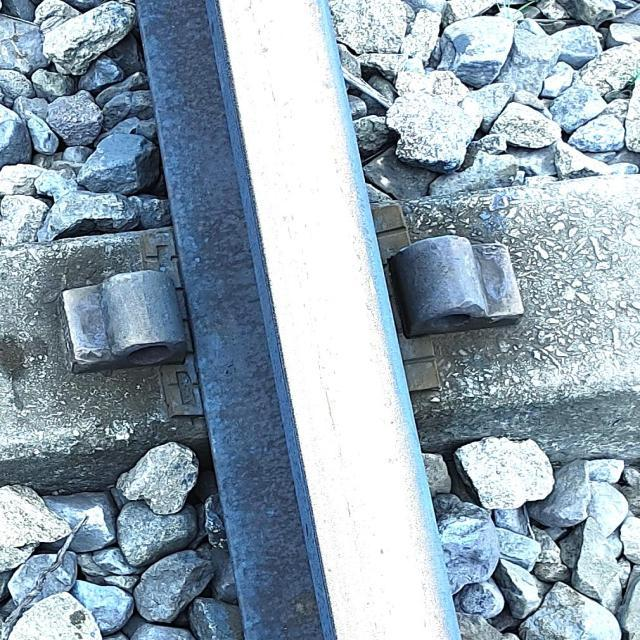Missing Fastener: (33, 251, 217, 403), (382, 221, 576, 355)
